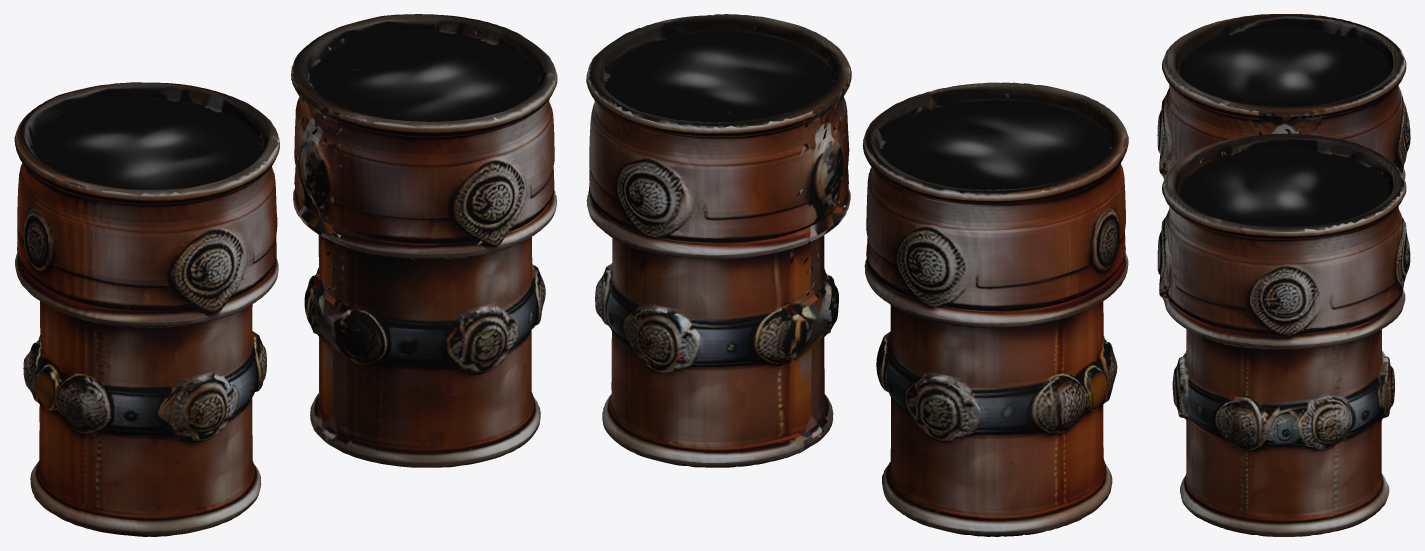
Rendered from prop.glb.
The picture shows the model from 3 angles, left to right: view 1: azimuth 30°, elevation 25°; view 2: azimuth 150°, elevation 25°; view 3: azimuth 270°, elevation 25°; orthographic projection. The views are drawn at different scales.
Visible parts, largest first — view 1: geometry_0; view 2: geometry_0; view 3: geometry_0.
Boxes of the visible parts, x1,y1,x2,y2 form: geometry_0: (14, 14, 557, 536); geometry_0: (586, 14, 1128, 536); geometry_0: (1157, 14, 1410, 536).
Size of the model in its own units: 1.96 by 1.31 by 0.9532.
1 material, 1 textured.
